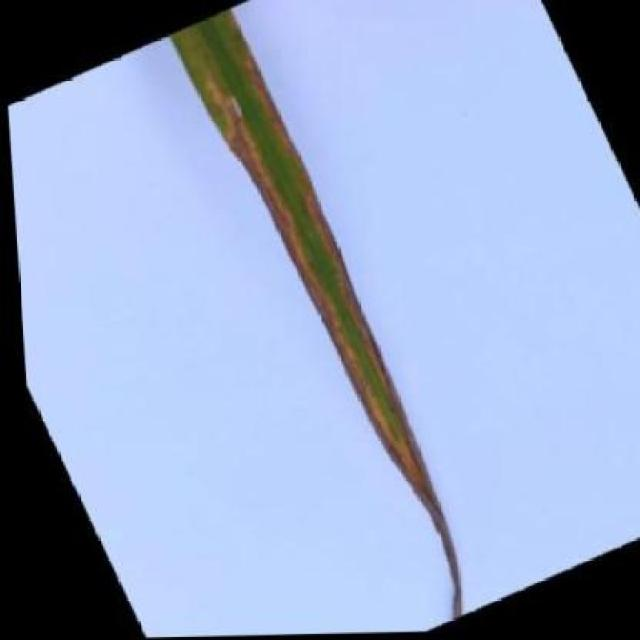Rice False Smut: (150, 1, 505, 634)
